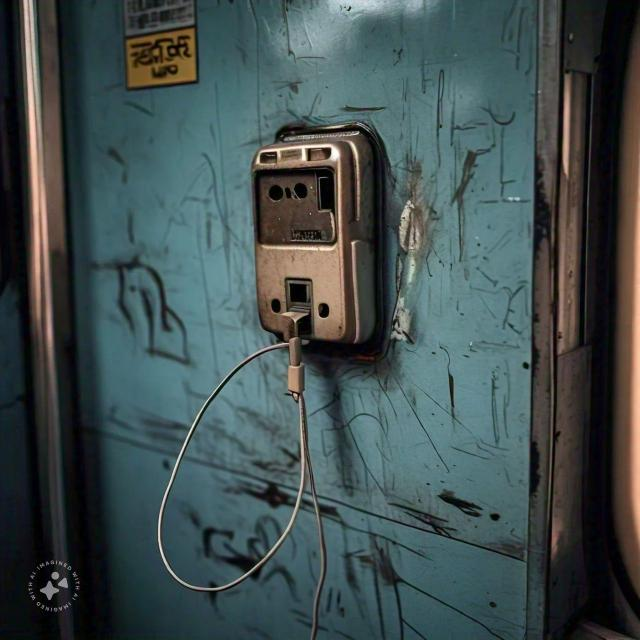Charging_Points: (115, 90, 442, 593)
